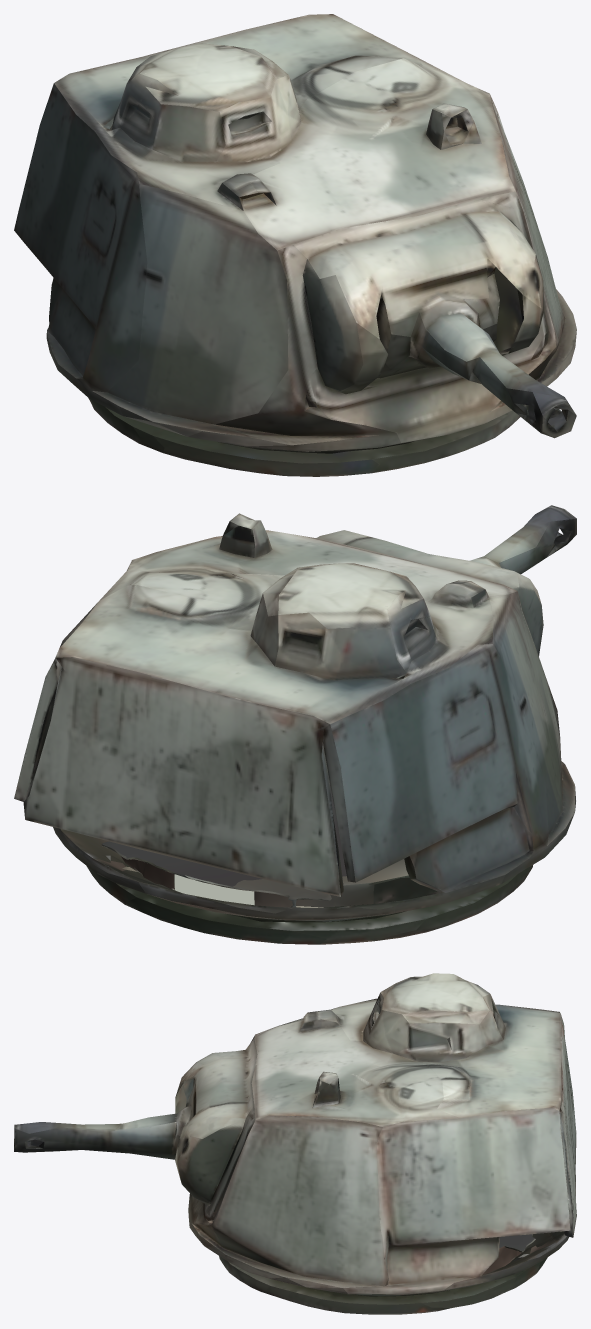
The model's file is light_turret.glb.
3 views of the same model, one above another, from view 1: azimuth 30°, elevation 25°; view 2: azimuth 150°, elevation 25°; view 3: azimuth 270°, elevation 25° (orthographic). The views are drawn at different scales.
Visible parts, largest first — view 1: geometry_0; view 2: geometry_0; view 3: geometry_0.
Part boxes in pixels (x1,y1,x2,y2): geometry_0: [14, 14, 576, 476]; geometry_0: [14, 505, 576, 944]; geometry_0: [14, 973, 576, 1314].
Bounding box in the file's own units: 2.8 × 1.8 × 4.03.
1 material, 1 textured.
